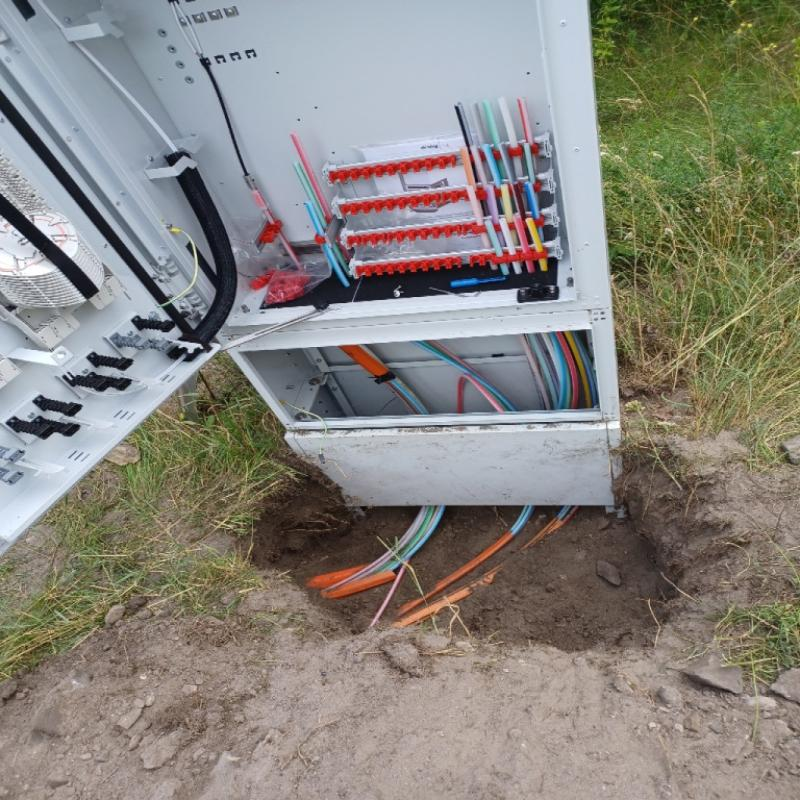NT-Gehause: (2, 2, 623, 554)
